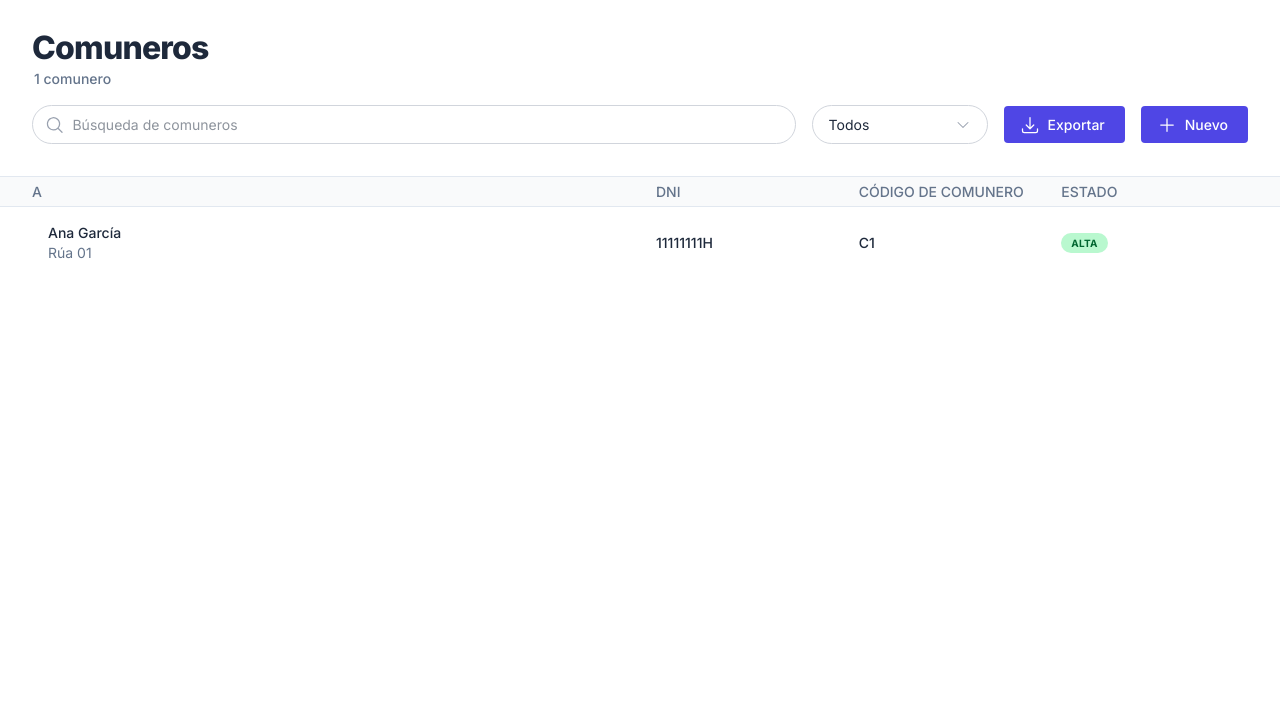
Test: ComunerosList › «Exportar» abre el diálogo de exportación
Expected: the text "Ana García" is shown, [48,223,121,243]
Click the button "Exportar": (1064, 124) [1004,106,1125,143]
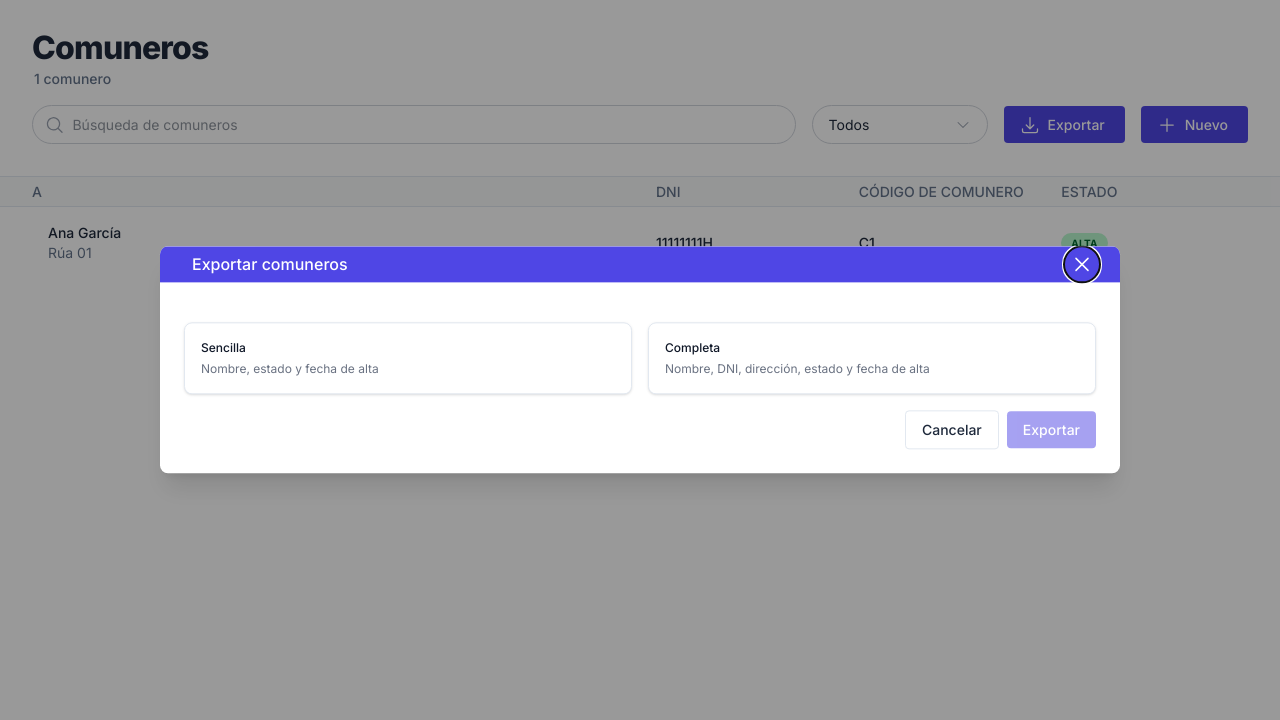
Result: the dialog "Exportar comuneros" is shown at [160,246,1120,474]
